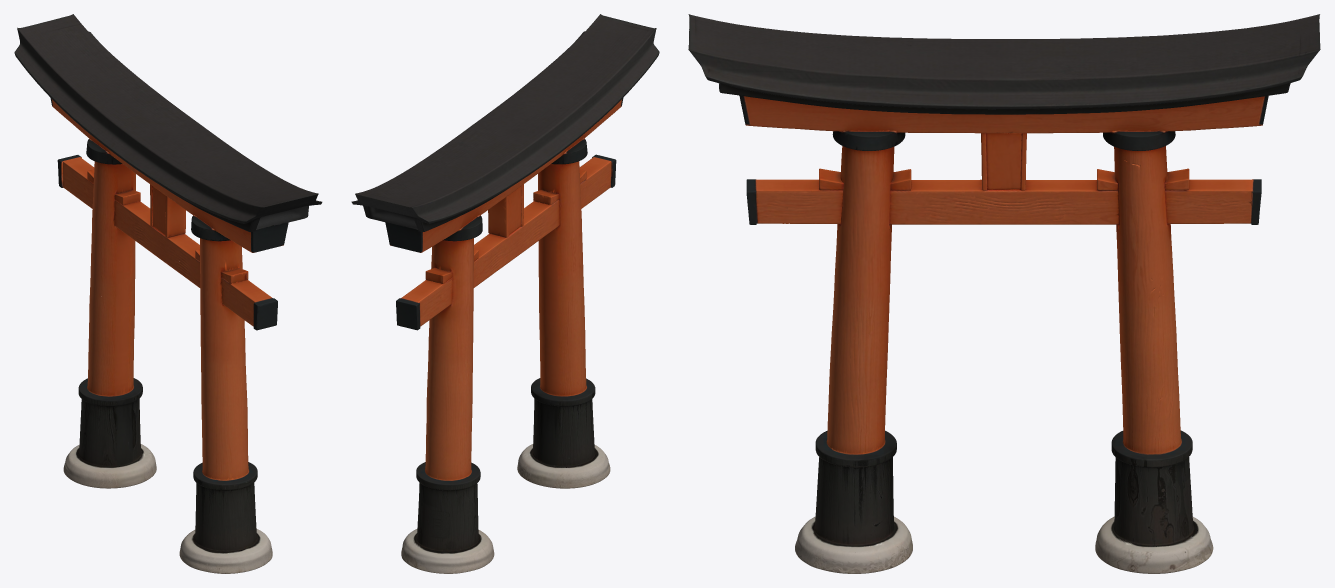
The model's file is Japanese Torii Gate.glb.
The picture shows the model from 3 angles, left to right: view 1: azimuth 30°, elevation 25°; view 2: azimuth 150°, elevation 25°; view 3: azimuth 270°, elevation 25°; orthographic projection. The views are drawn at different scales.
Visible parts, largest first — view 1: tripo_node_e67613d0-cd6e-4824-b37b-4e8691173f3a; view 2: tripo_node_e67613d0-cd6e-4824-b37b-4e8691173f3a; view 3: tripo_node_e67613d0-cd6e-4824-b37b-4e8691173f3a.
Part boxes in pixels (bbox=[...]): tripo_node_e67613d0-cd6e-4824-b37b-4e8691173f3a: bbox=[14, 14, 322, 573]; tripo_node_e67613d0-cd6e-4824-b37b-4e8691173f3a: bbox=[351, 14, 659, 573]; tripo_node_e67613d0-cd6e-4824-b37b-4e8691173f3a: bbox=[688, 14, 1320, 573].
Bounding box in the file's own units: 0.0636 × 0.2666 × 0.295.
1 material, 1 textured.
